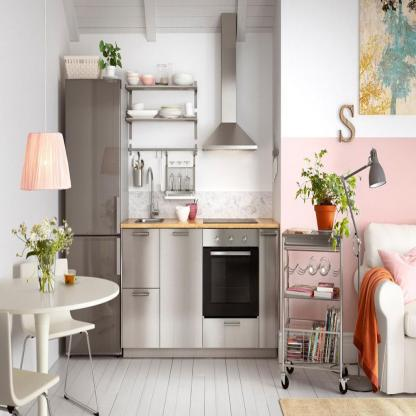Sofa: (354, 218, 416, 397)
